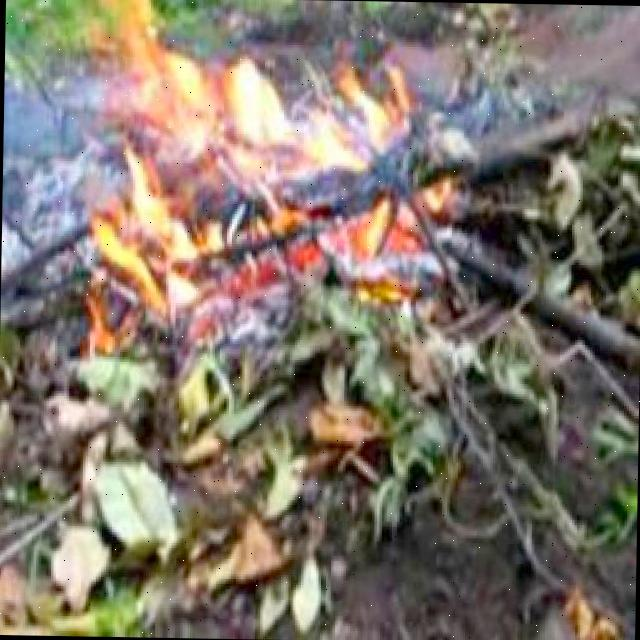fire: (86, 0, 418, 307)
